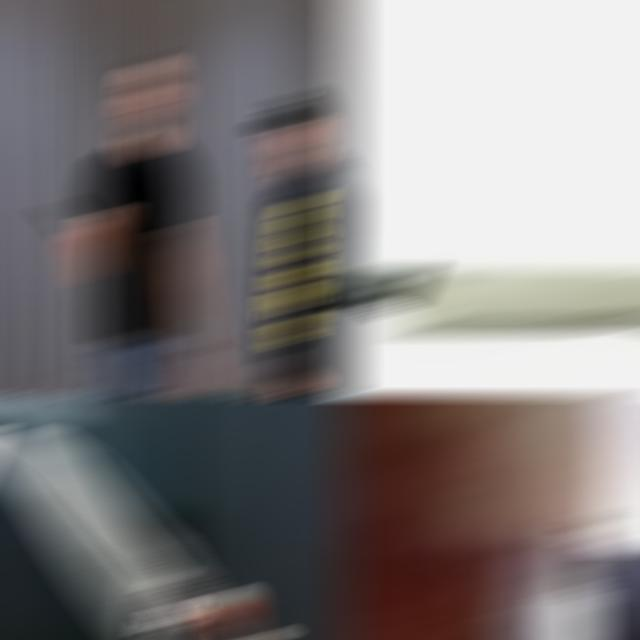Knife: (4, 434, 251, 638), (336, 270, 640, 332)
Knife_Handle: (371, 519, 556, 638), (44, 201, 109, 250)
